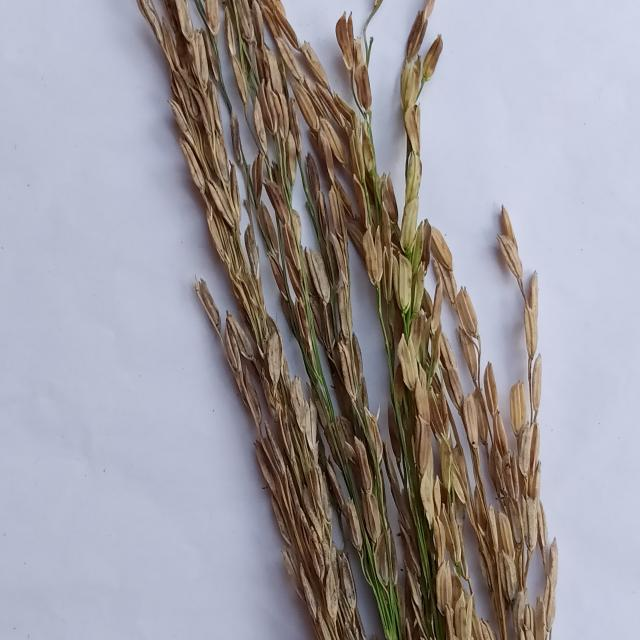Neck_Blast: (147, 0, 364, 639), (388, 0, 575, 640), (260, 0, 398, 578)
